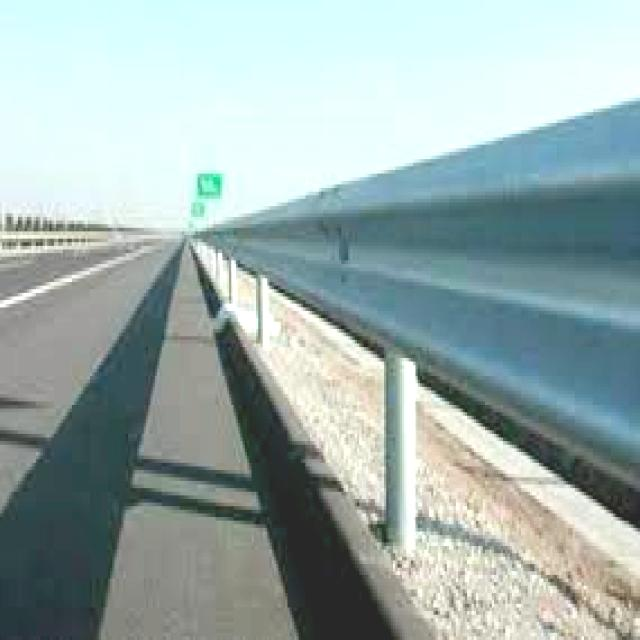Guard rail: (202, 101, 640, 522)
